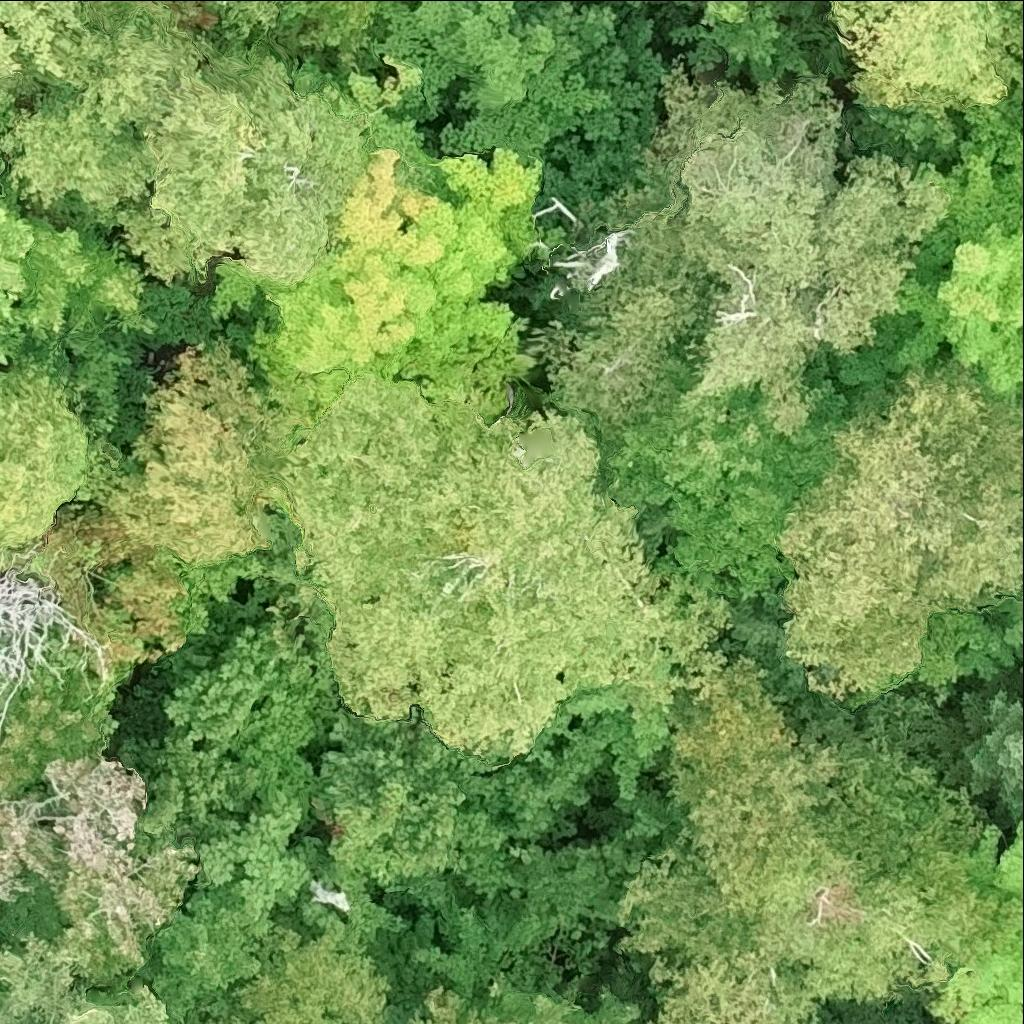crown: (271, 380, 734, 765), (217, 149, 542, 419), (662, 151, 951, 433), (779, 375, 1023, 703), (594, 315, 861, 606), (763, 720, 1023, 1003), (19, 433, 306, 668), (121, 54, 370, 285), (521, 188, 724, 443), (111, 339, 335, 562), (313, 704, 556, 907), (660, 646, 842, 917), (839, 140, 1023, 402), (638, 61, 842, 296), (117, 736, 329, 939), (31, 743, 201, 990), (615, 846, 823, 1023), (206, 860, 408, 1023), (86, 862, 259, 1023), (227, 598, 351, 820), (161, 595, 315, 754), (0, 196, 143, 365), (0, 552, 114, 742), (833, 0, 1023, 107), (520, 684, 675, 807), (0, 652, 127, 799), (0, 361, 89, 559), (0, 922, 173, 1023), (67, 11, 204, 138), (9, 92, 157, 209), (936, 693, 1023, 825), (669, 7, 817, 84), (0, 797, 71, 947), (931, 936, 1023, 1023), (965, 39, 1023, 172), (0, 0, 88, 82), (967, 815, 1023, 904), (700, 0, 822, 28), (422, 992, 490, 1023), (309, 879, 348, 911), (673, 0, 689, 2), (0, 951, 0, 951)
